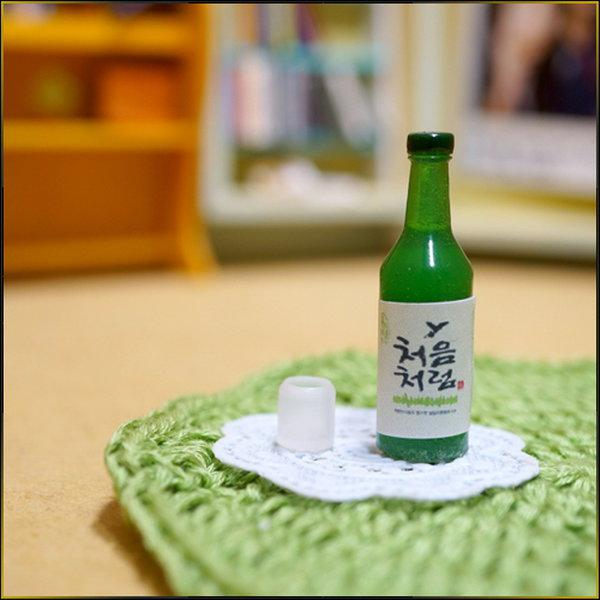soju: (374, 127, 473, 465)
